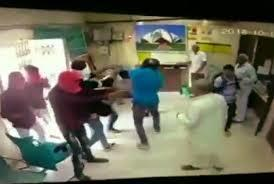weapon: (106, 88, 130, 101)
